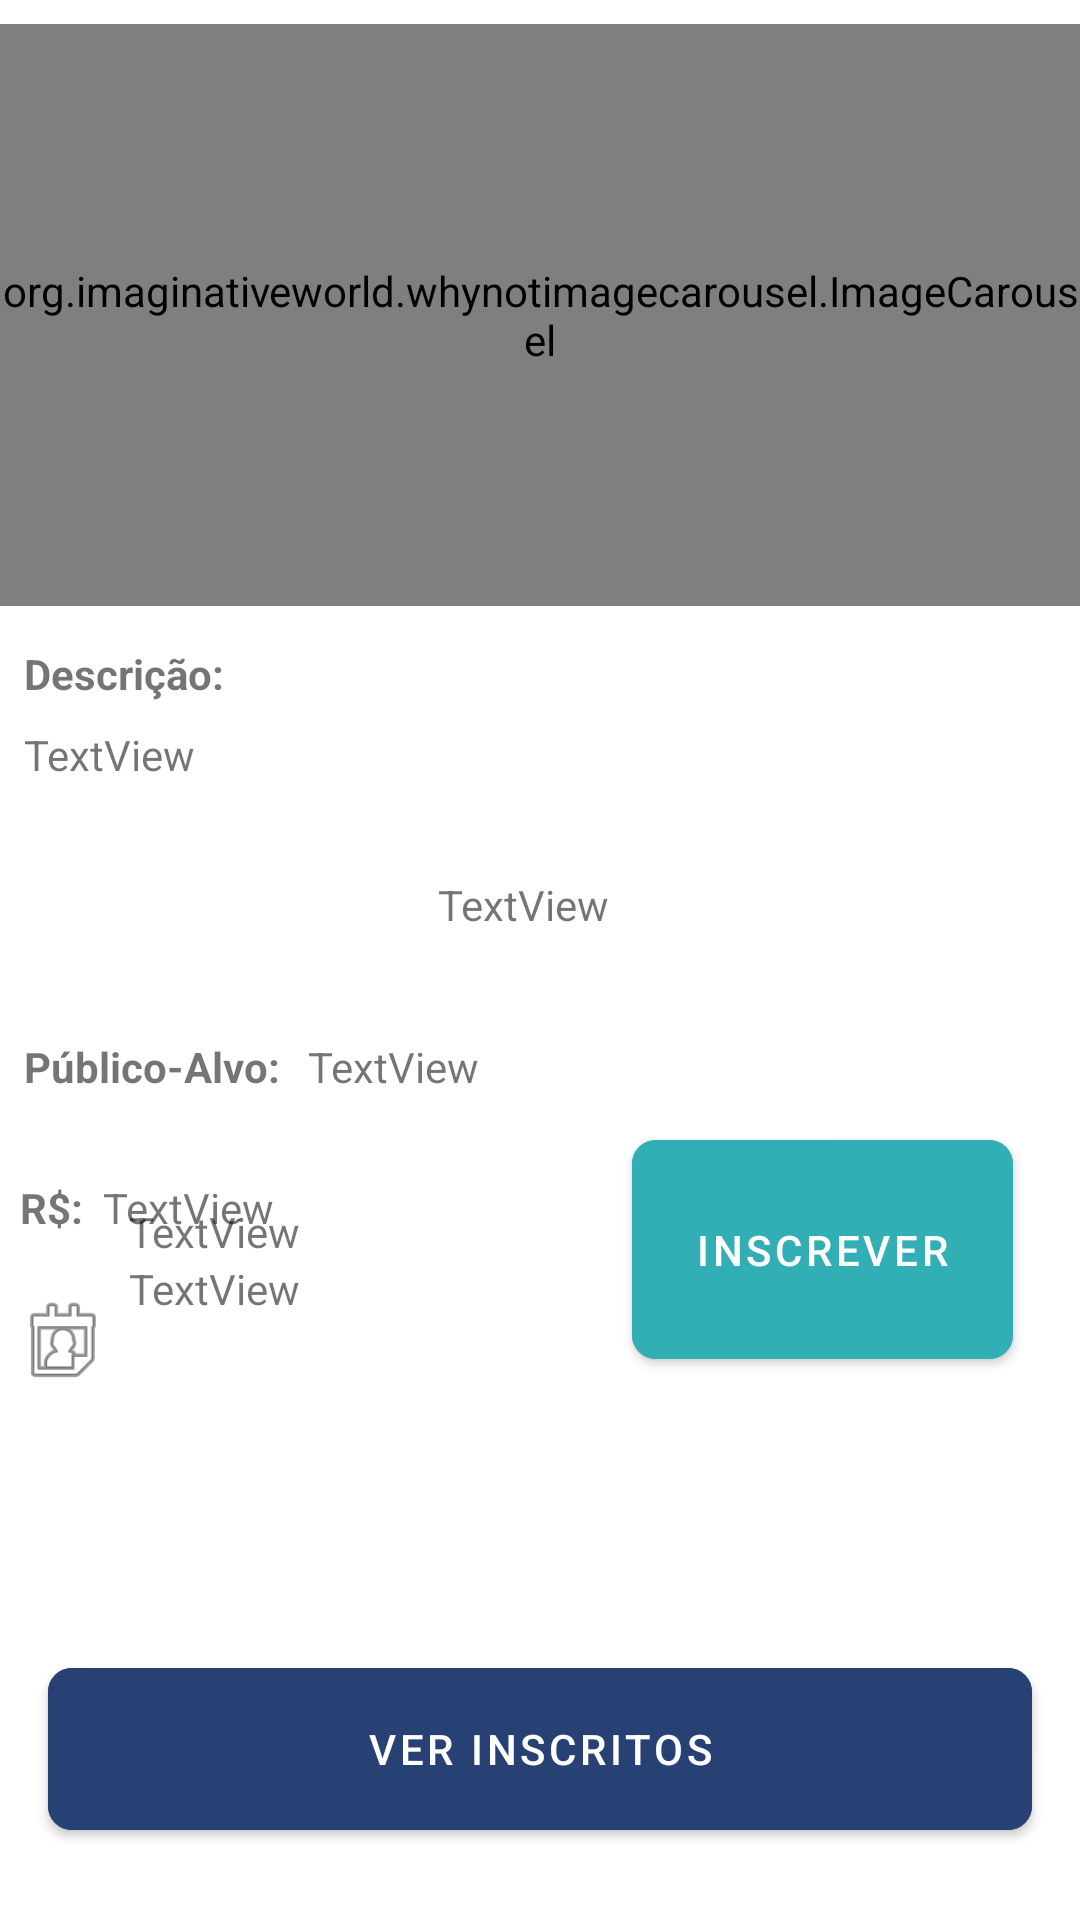

Screen size 1080 x 1920. Icon name, then its center in pixels as point (x, y):
calendar days: point (63, 1340)
